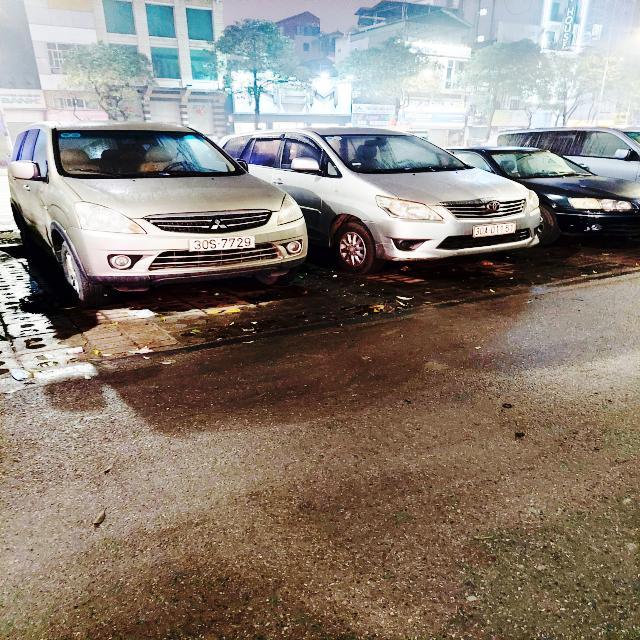license_plate: (188, 235, 257, 253), (473, 222, 518, 239)
